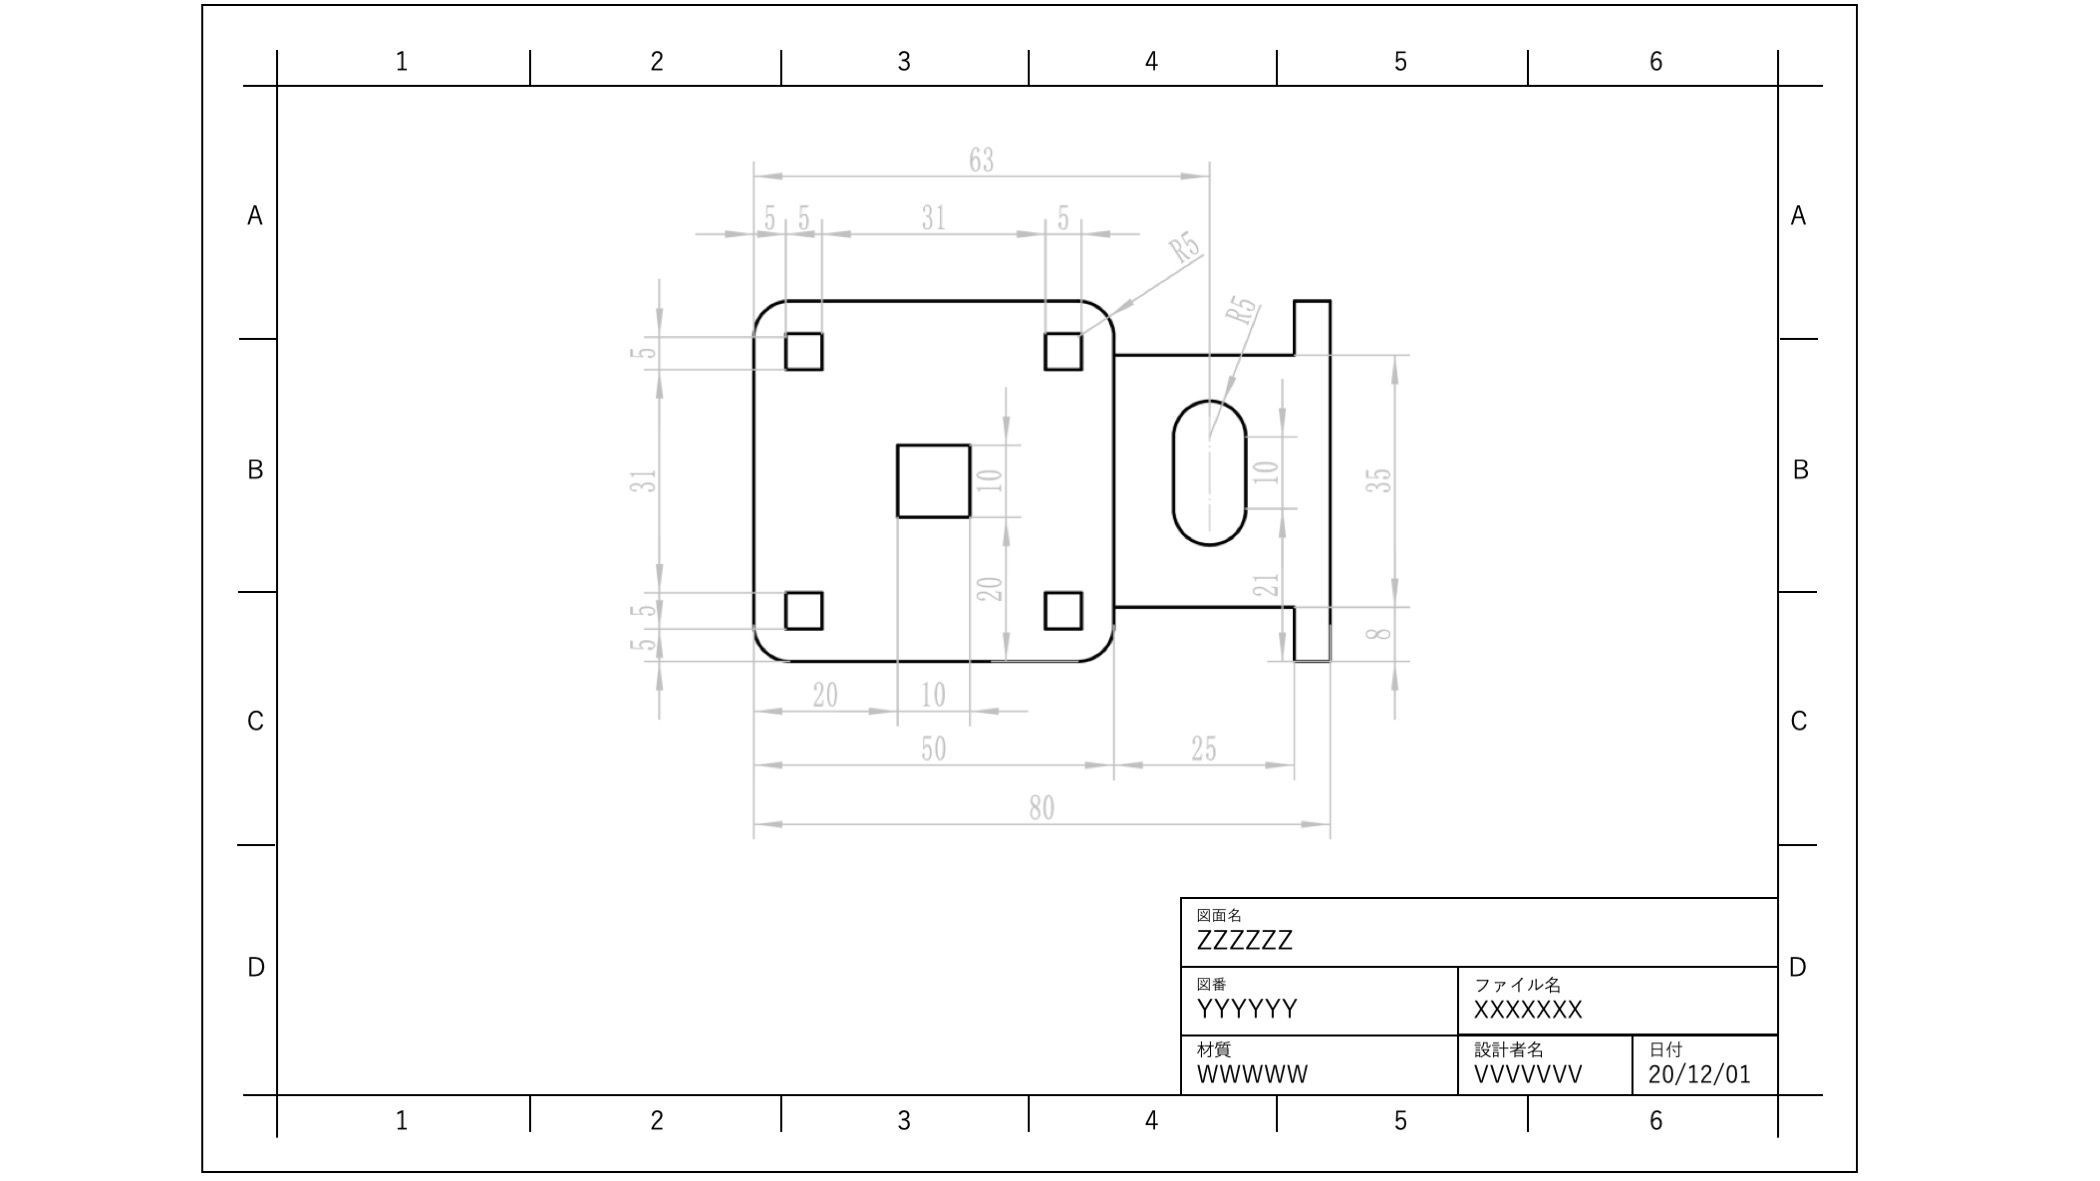rectangle: (886, 430, 984, 525), (772, 320, 834, 382), (772, 580, 834, 637), (1036, 580, 1090, 637), (1038, 322, 1087, 381)
round_rectangle: (1162, 386, 1258, 557)
